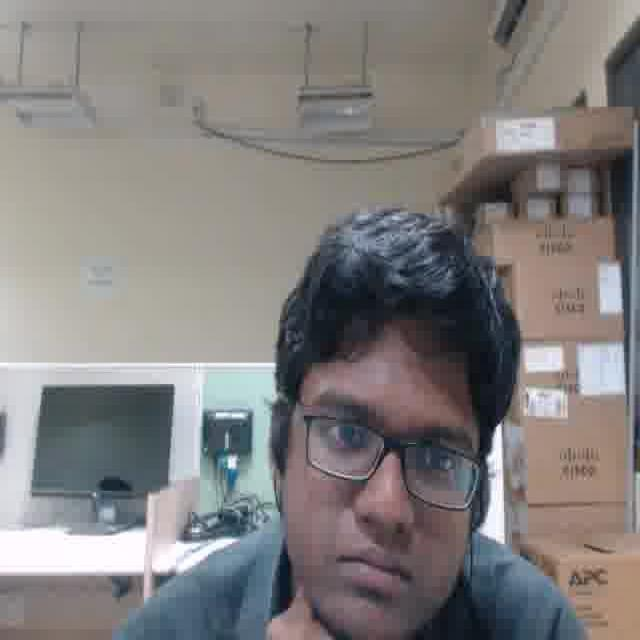Engaged: (284, 324, 475, 640)
